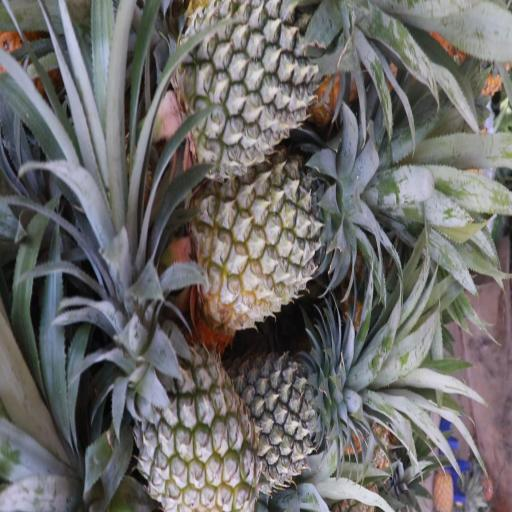------------------------------: (192, 172, 367, 330), (134, 348, 257, 512)
